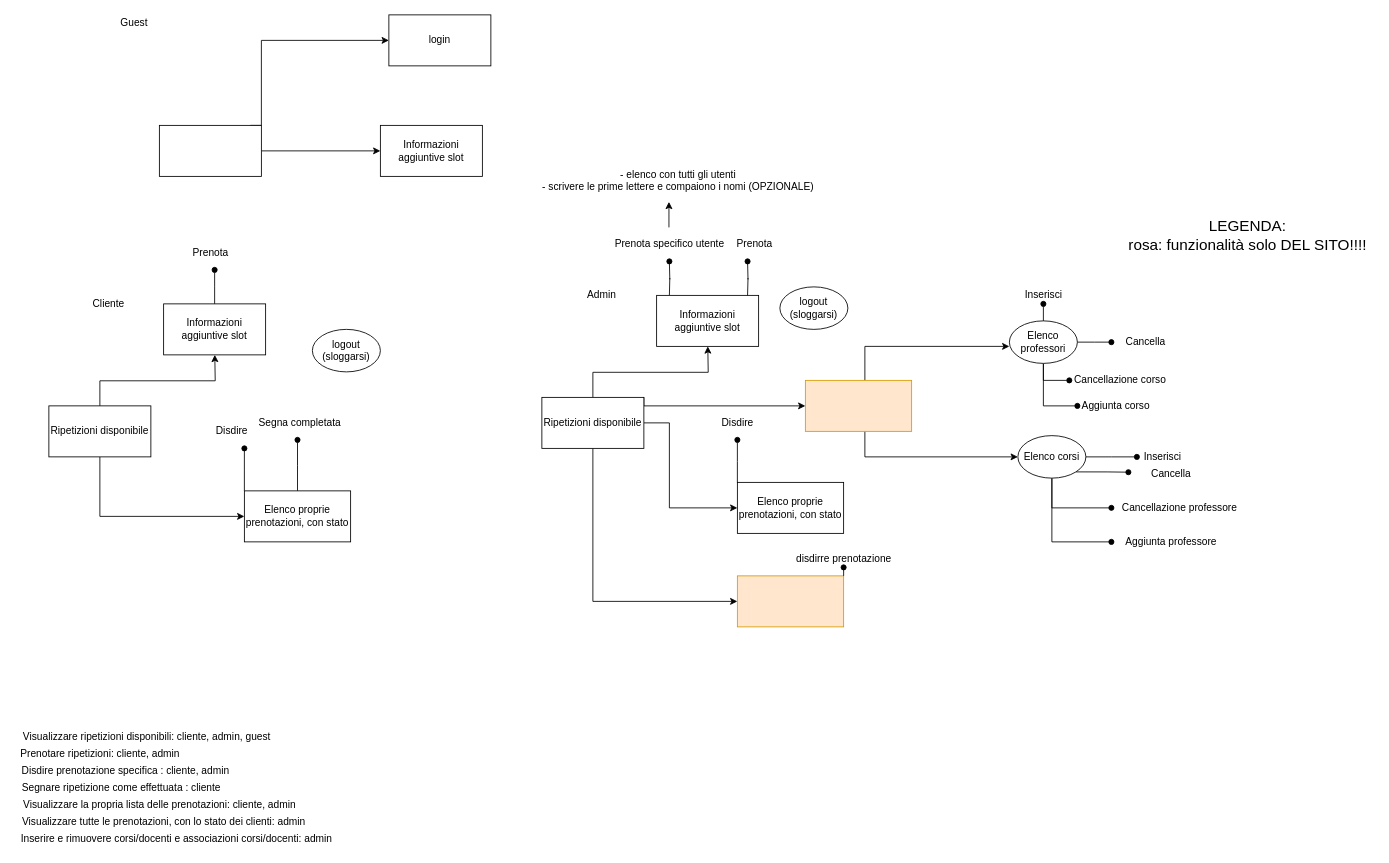
This 1389x863 diagram has some shape labels left out. Here are the shapes that lost their labels. From the top down, the centre of each, then its label:
At point (210, 150): "Ripetizioni disponibili".
At point (858, 405): "gestione professori/corsi".
At point (790, 601): "Prenotazioni di tutti i CLIENTI".
